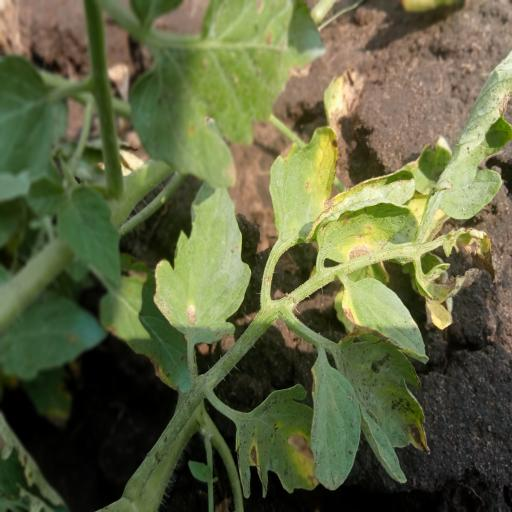Tomato_Brown_Spots: (420, 51, 512, 242), (156, 177, 258, 345), (332, 324, 431, 494), (232, 382, 322, 503), (317, 171, 423, 269), (269, 123, 345, 249)
